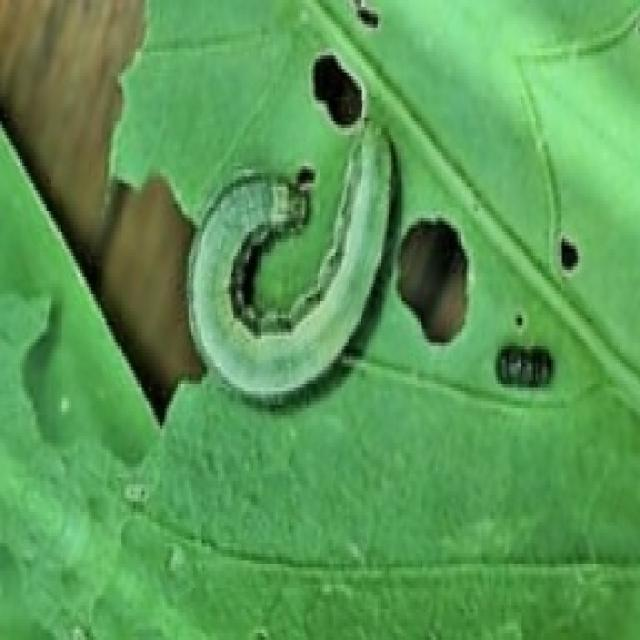Armyworm: (194, 117, 407, 416)
Armyworm_damage: (392, 213, 476, 348), (304, 50, 371, 133)
